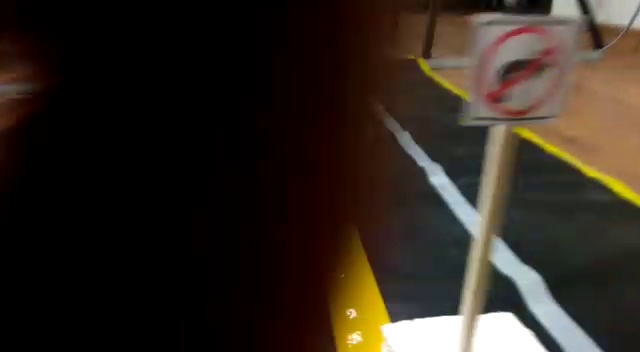saga_donulmez: (468, 16, 567, 120)
